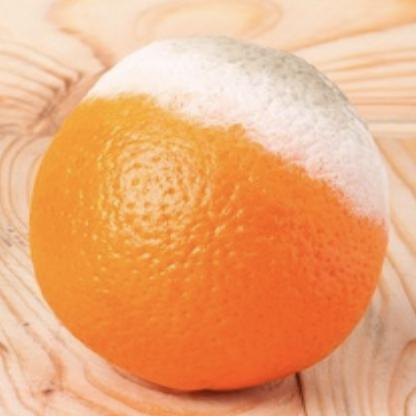rotten: (30, 33, 400, 399)
